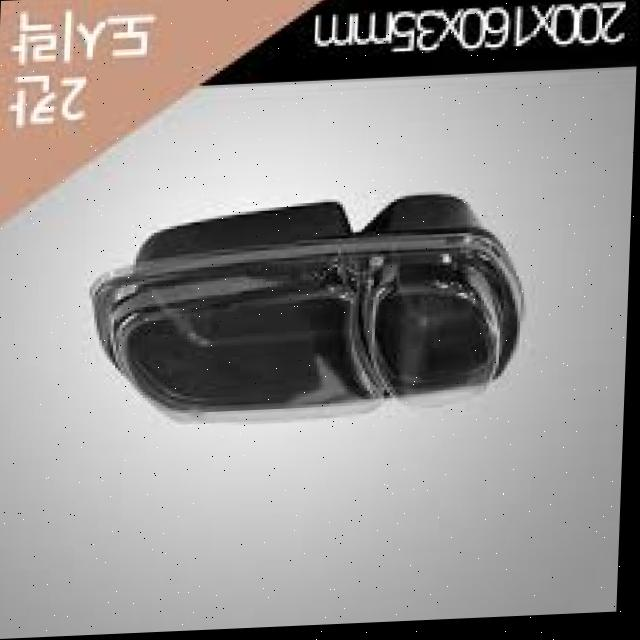disposable: (63, 159, 549, 458)
